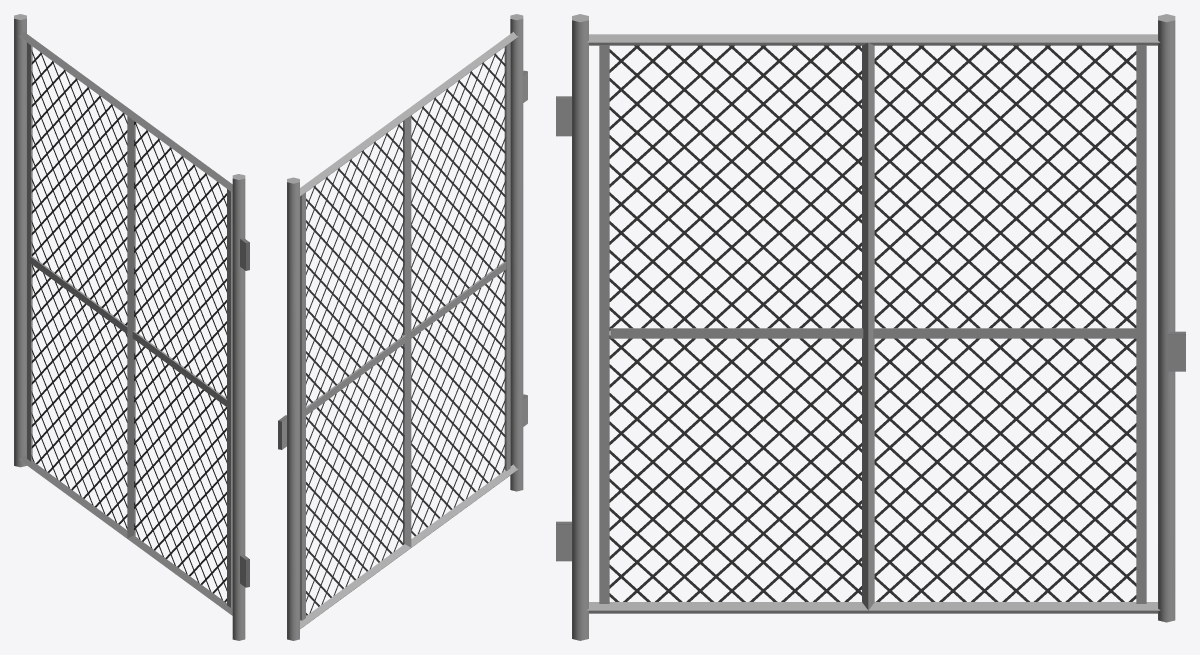
File: SM_fence_104gate.gltf
3 views of the same model, side by side, from view 1: azimuth 30°, elevation 25°; view 2: azimuth 150°, elevation 25°; view 3: azimuth 270°, elevation 25° (orthographic). The views are drawn at different scales.
Parts seen in each view (by area): view 1: SM_fence_104gate; view 2: SM_fence_104gate; view 3: SM_fence_104gate.
Part boxes in pixels (box(x1,y1,x2,y2)): SM_fence_104gate: box(14, 14, 249, 640); SM_fence_104gate: box(278, 14, 527, 640); SM_fence_104gate: box(556, 14, 1185, 640).
Bounding box in the file's own units: 0.0697 × 2.14 × 1.97.
2 materials, 2 textured.
